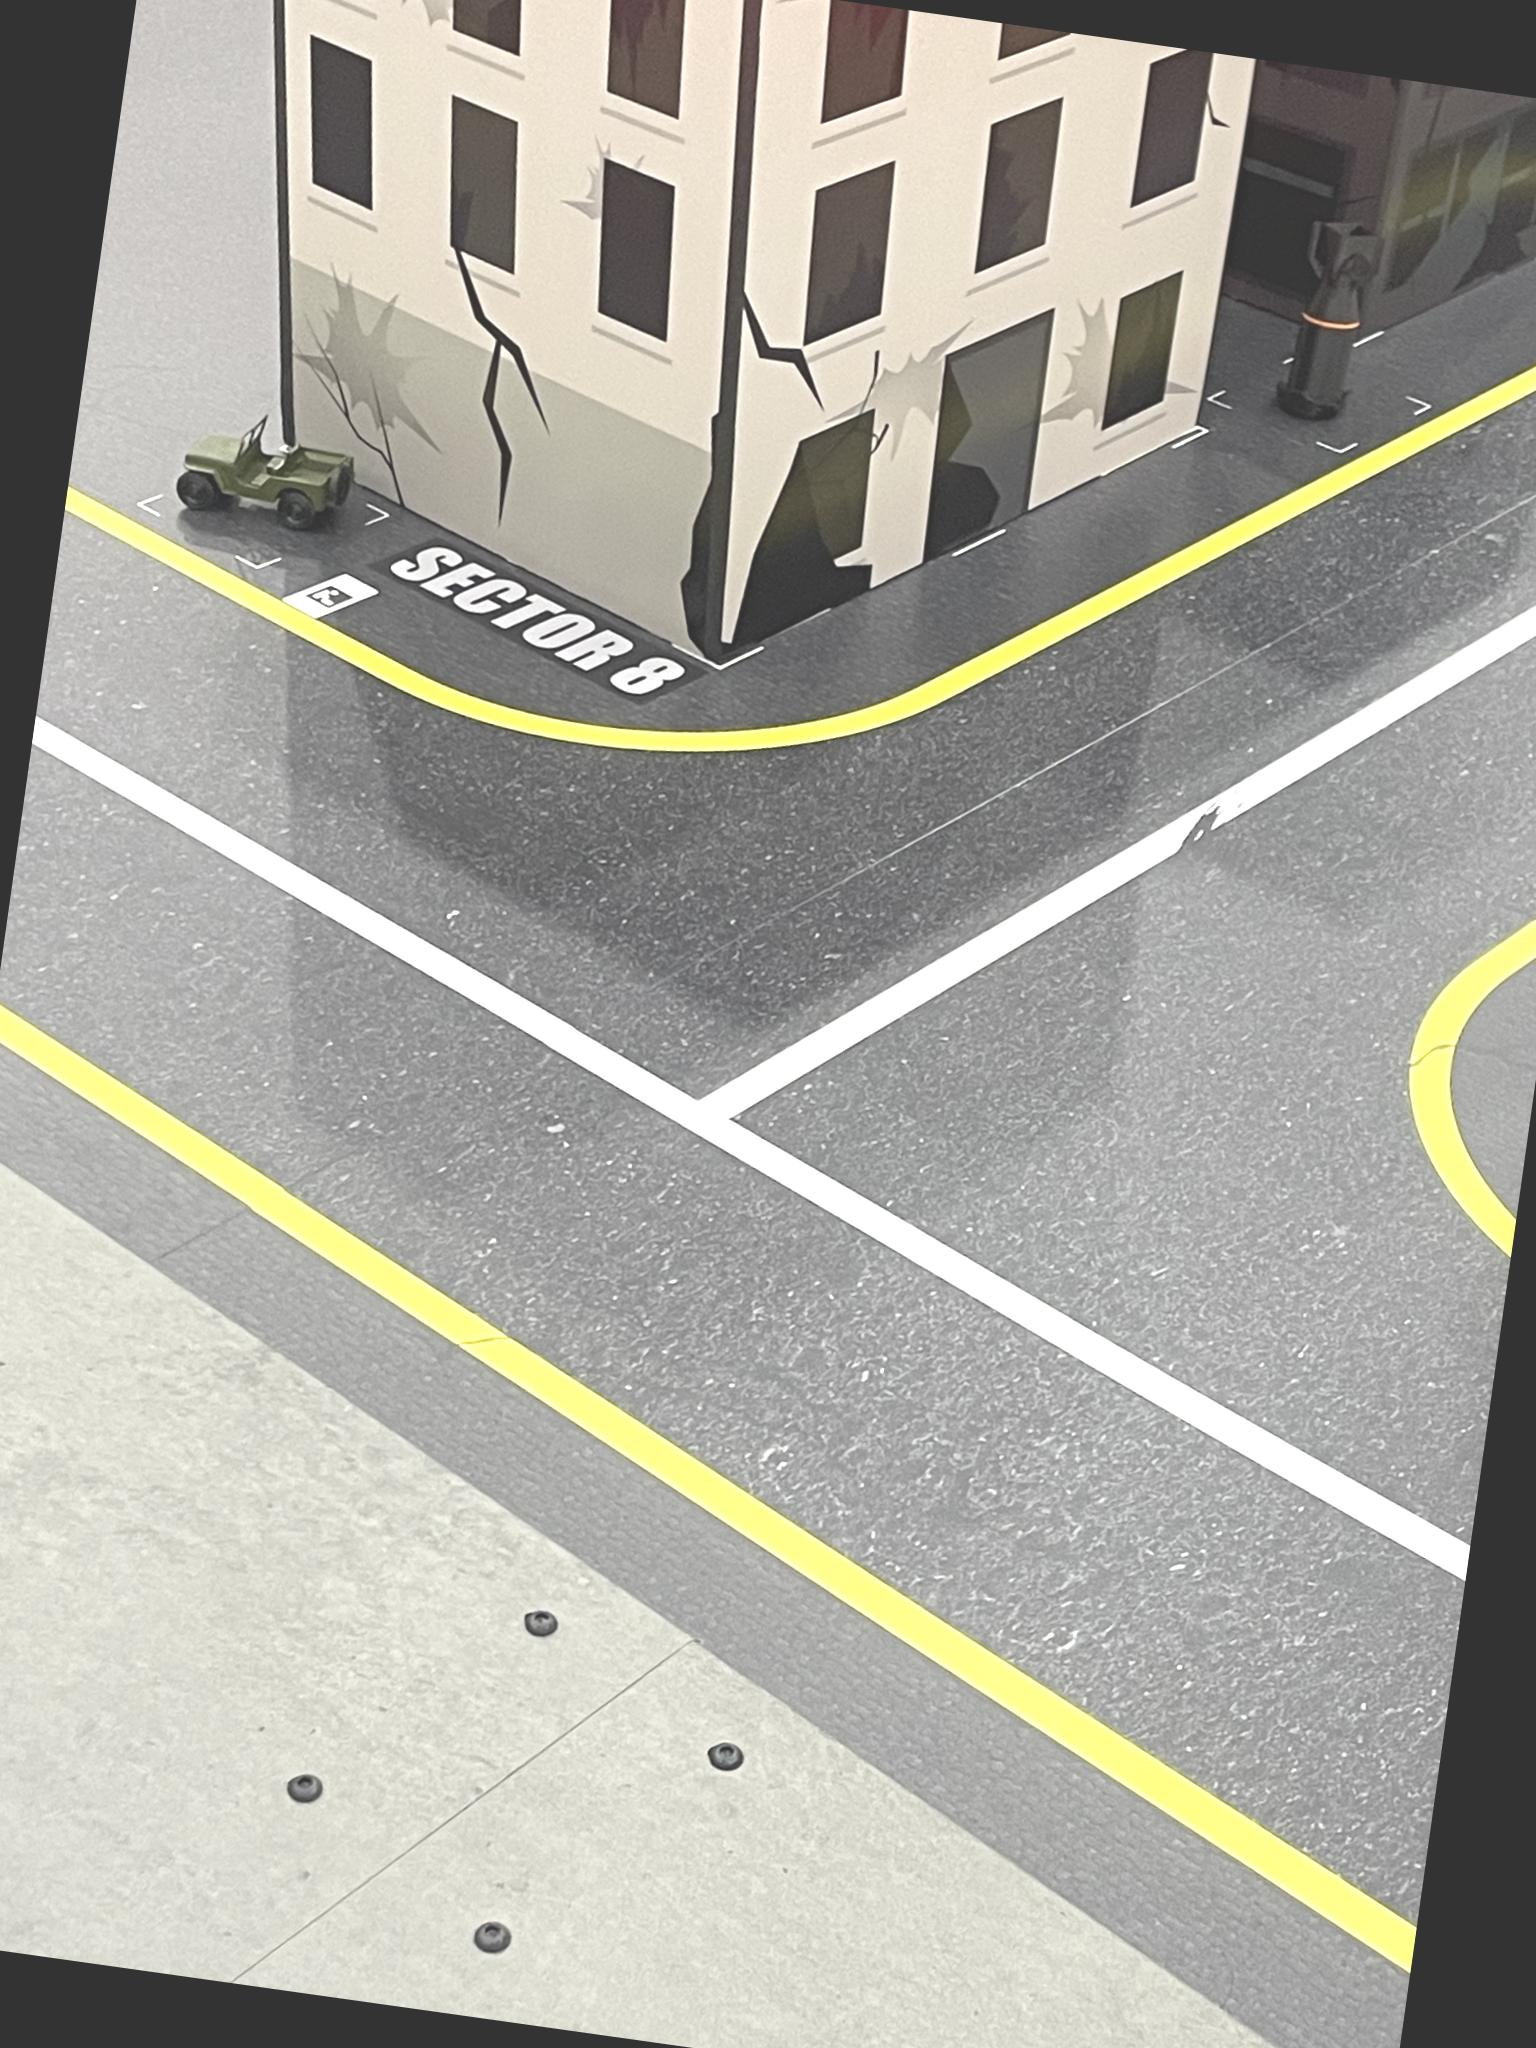Car: (166, 408, 363, 547)
Missile: (1273, 206, 1397, 431)
